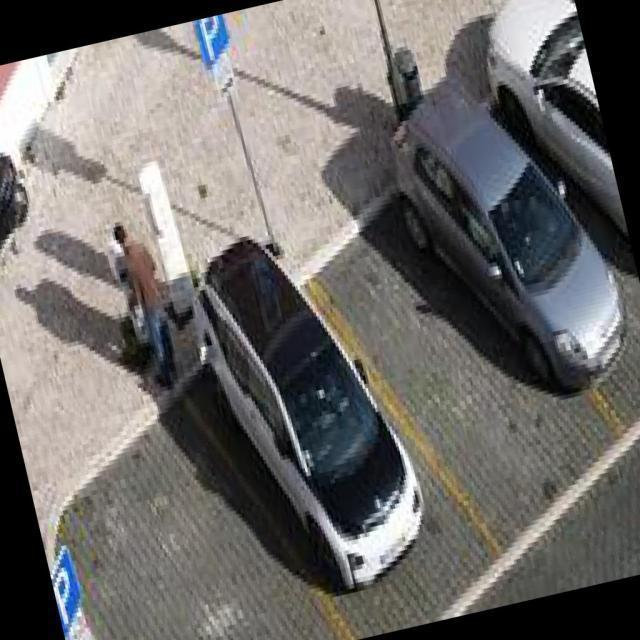space-empty: (31, 373, 326, 640)
space-occupied: (292, 104, 627, 583), (192, 245, 465, 640), (408, 49, 640, 444)
